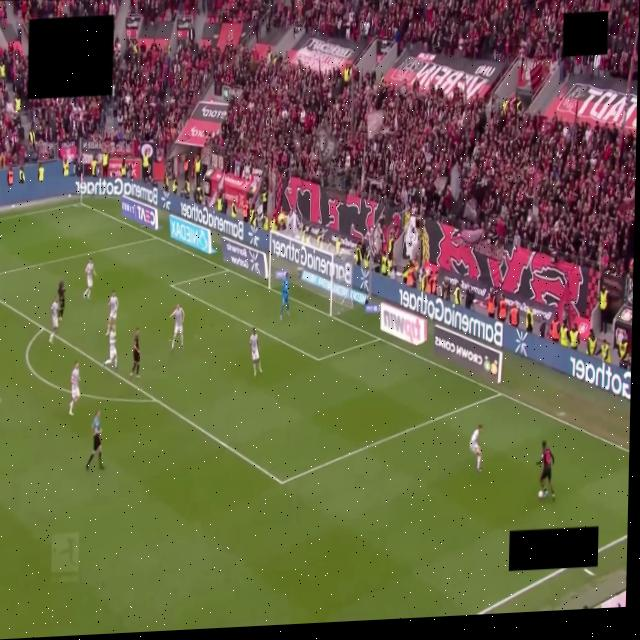ball: (539, 490, 544, 498)
player: (536, 441, 554, 500), (169, 303, 183, 350), (249, 328, 261, 376), (469, 424, 481, 472), (104, 327, 117, 369), (69, 363, 79, 415), (129, 328, 139, 377), (106, 291, 117, 335), (83, 258, 95, 298), (280, 273, 289, 320), (49, 296, 58, 343), (57, 279, 64, 320), (0, 378, 1, 434)
referee: (85, 410, 103, 470)
